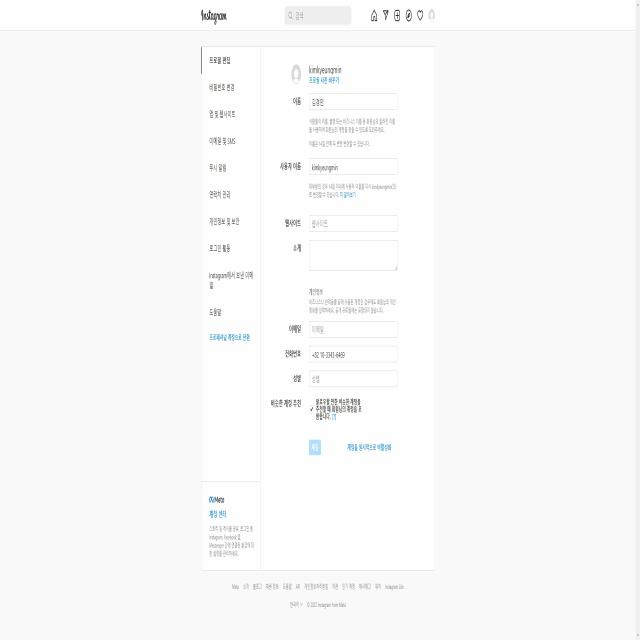menu-bar: (368, 1, 436, 26)
menu-panel: (201, 47, 259, 360)
search: (282, 2, 352, 27)
